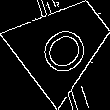O_NE: (31, 12, 96, 76)
